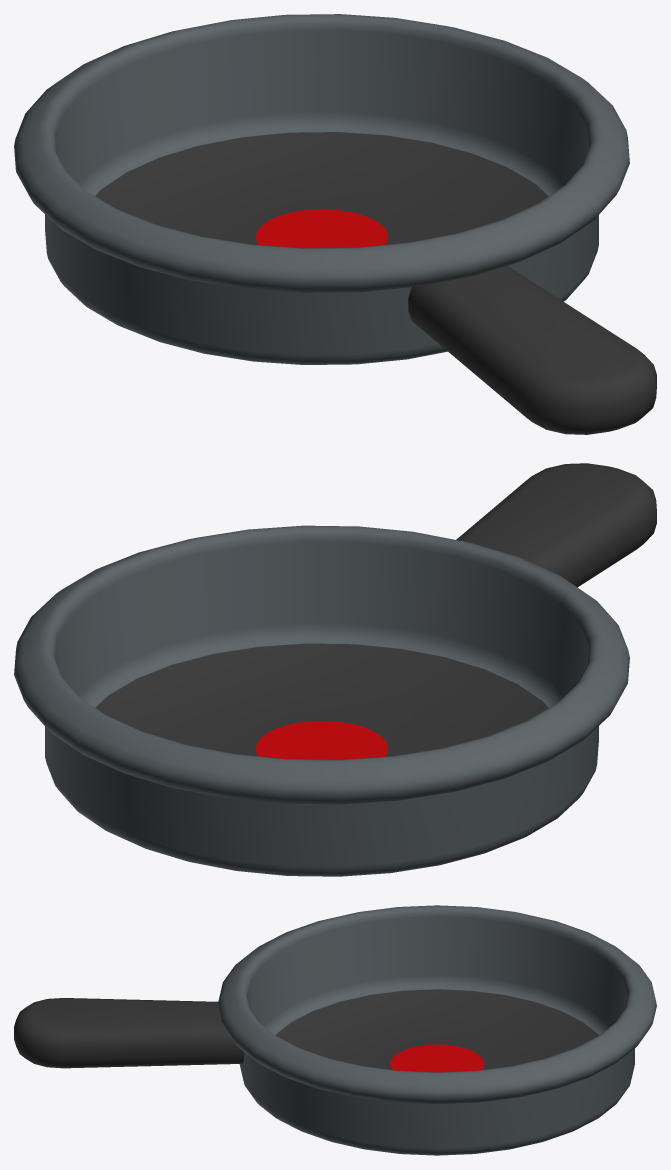
The model's file is SM_Pan.fbx.
3 views of the same model, one above another, from view 1: azimuth 30°, elevation 25°; view 2: azimuth 150°, elevation 25°; view 3: azimuth 270°, elevation 25° (orthographic). The views are drawn at different scales.
Parts seen in each view (by area): view 1: Pan; view 2: Pan; view 3: Pan.
Part boxes in pixels (x1=…): Pan: x1=14, y1=14, x2=656, y2=434; Pan: x1=14, y1=463, x2=656, y2=876; Pan: x1=14, y1=905, x2=656, y2=1155.
Size of the model in its own units: 149 by 32.48 by 218.
